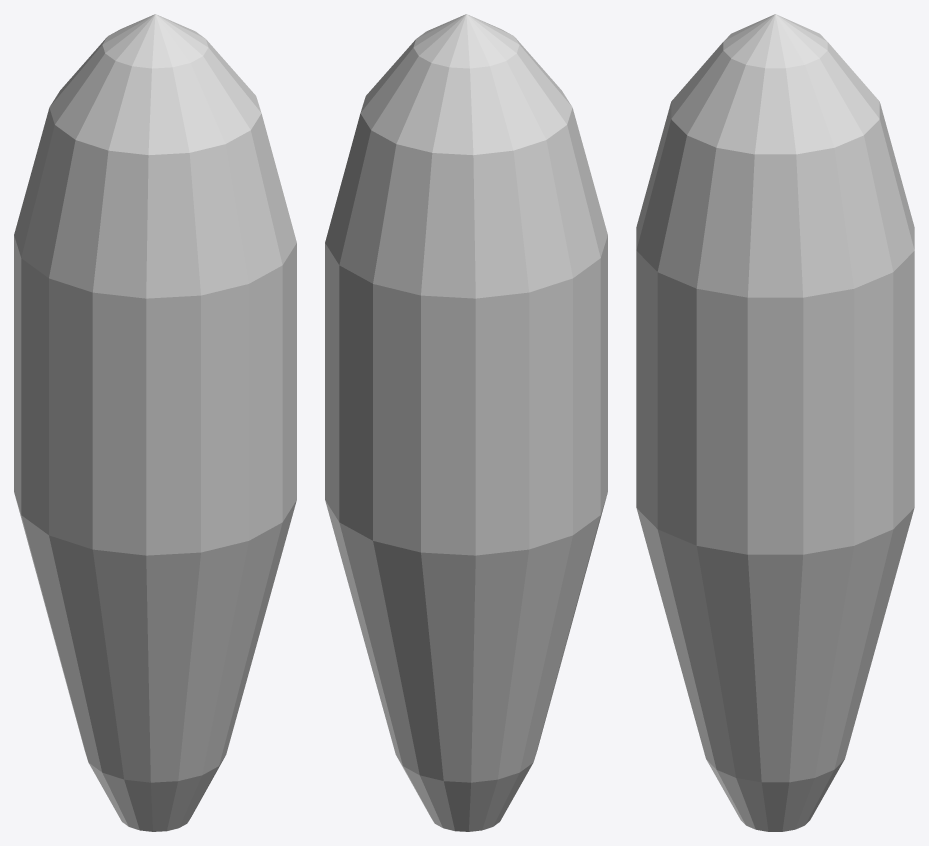
The picture shows the model from 3 angles, left to right: view 1: azimuth 30°, elevation 25°; view 2: azimuth 150°, elevation 25°; view 3: azimuth 270°, elevation 25°; orthographic projection.
Visible parts, largest first — view 1: Collision; view 2: Collision; view 3: Collision.
Boxes of the visible parts, x1,y1,x2,y2 form: Collision: [14, 14, 296, 831]; Collision: [325, 14, 607, 831]; Collision: [636, 14, 914, 831].
Bounding box in the file's own units: 15.69 × 50 × 15.69.
1 material, 1 textured.
